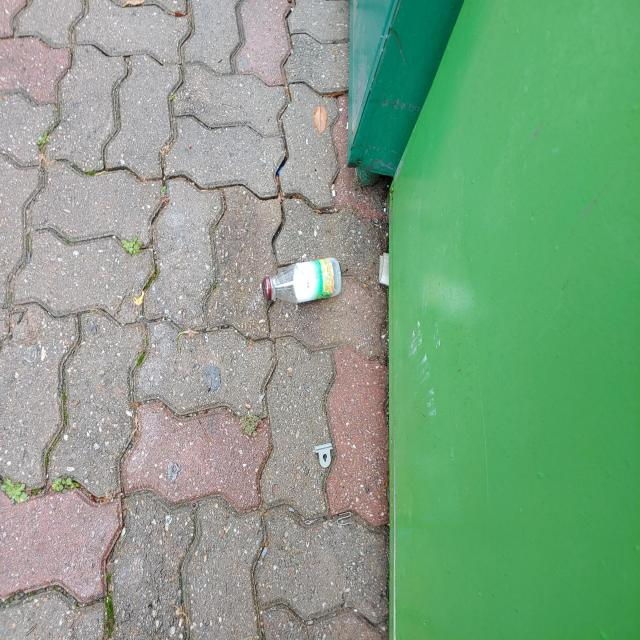glass: (262, 257, 342, 303)
